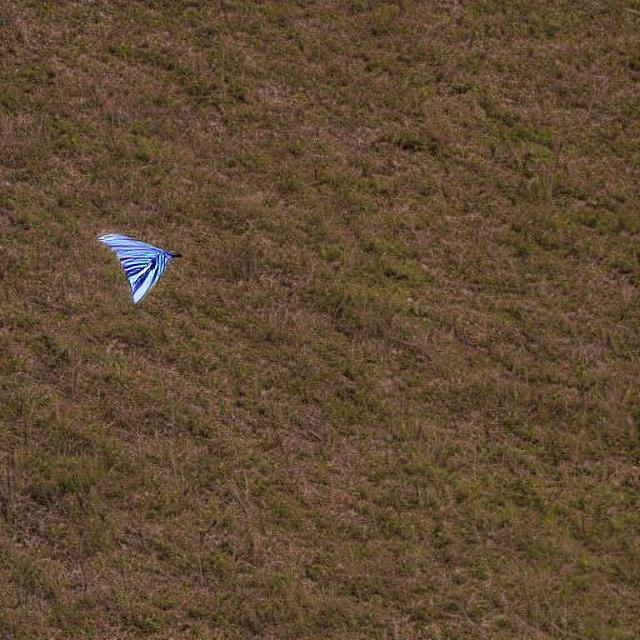floating object: (94, 232, 180, 304)
